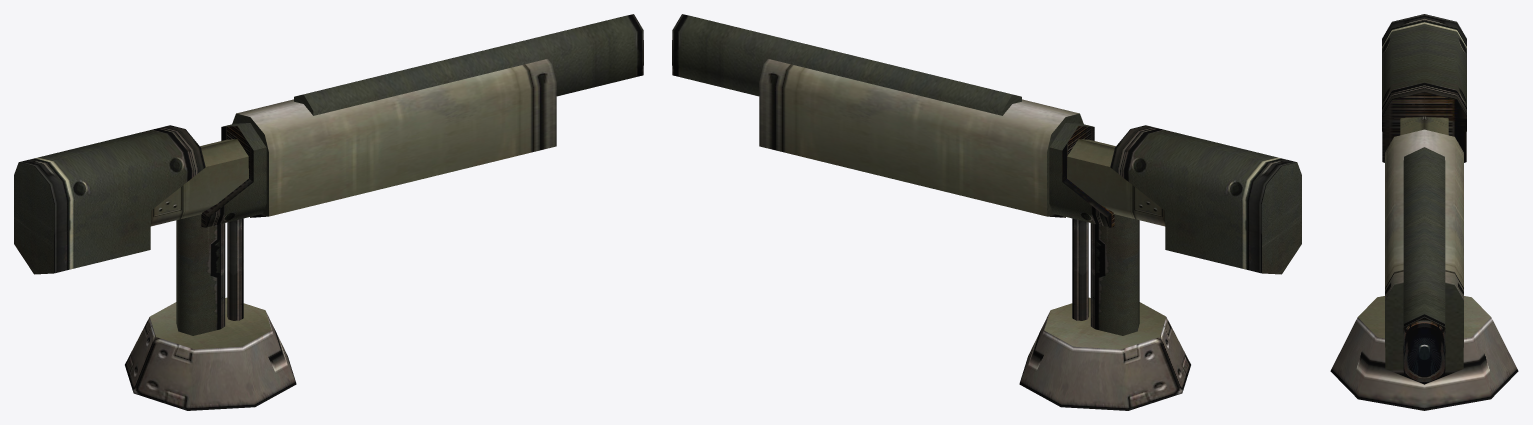
The model's file is railgun.obj.
3 renders of one model, left to right at view 1: azimuth 30°, elevation 25°; view 2: azimuth 150°, elevation 25°; view 3: azimuth 270°, elevation 25°, orthographic. The views are drawn at different scales.
Visible parts, largest first — view 1: pCylinder1 group22, group22 pCylinder6, group22 pCylinder5, group22 pCylinder2, group22 pCylinder4, group22 pCylinder3, group22 pCylinder10, group22 pCylinder7; view 2: pCylinder1 group22, group22 pCylinder6, group22 pCylinder5, group22 pCylinder2, group22 pCylinder4, group22 pCylinder3, group22 pCylinder10, group22 pCylinder7; view 3: group22 pCylinder5, group22 pCylinder2, pCylinder1 group22, group22 pCylinder6, group22 pCylinder3.
Boxes of the visible parts, left/top/right/bottom form: pCylinder1 group22: left=232, top=59, right=556, bottom=217; group22 pCylinder6: left=14, top=125, right=205, bottom=274; group22 pCylinder5: left=125, top=297, right=296, bottom=410; group22 pCylinder2: left=294, top=14, right=643, bottom=115; group22 pCylinder4: left=176, top=214, right=225, bottom=335; group22 pCylinder3: left=150, top=139, right=248, bottom=226; group22 pCylinder10: left=201, top=123, right=266, bottom=227; group22 pCylinder7: left=227, top=218, right=243, bottom=320; pCylinder1 group22: left=759, top=59, right=1083, bottom=217; group22 pCylinder6: left=1110, top=125, right=1301, bottom=274; group22 pCylinder5: left=1019, top=297, right=1190, bottom=410; group22 pCylinder2: left=672, top=14, right=1021, bottom=115; group22 pCylinder4: left=1090, top=214, right=1139, bottom=335; group22 pCylinder3: left=1067, top=139, right=1165, bottom=226; group22 pCylinder10: left=1049, top=123, right=1114, bottom=227; group22 pCylinder7: left=1072, top=218, right=1088, bottom=320; group22 pCylinder5: left=1330, top=296, right=1518, bottom=410; group22 pCylinder2: left=1403, top=147, right=1445, bottom=384; pCylinder1 group22: left=1385, top=129, right=1463, bottom=384; group22 pCylinder6: left=1382, top=14, right=1466, bottom=162; group22 pCylinder3: left=1400, top=116, right=1448, bottom=135.
Bounding box in the file's own units: 15.12 × 6.2 × 3.88.
2 materials, 2 textured.
